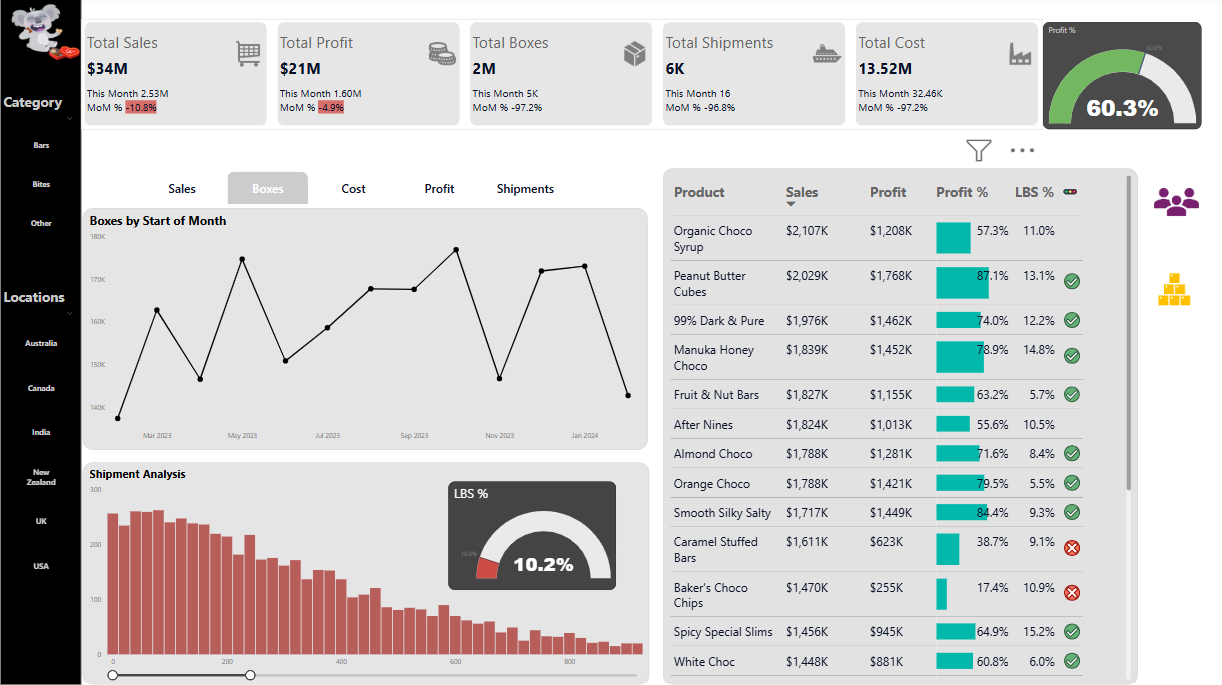

What the dashboard file says about the page in this screenshot:
{"tool":"powerbi","page":{"name":"Sales Report","canvas":[1920,1082],"ordinal":0},"visuals":[{"type":"shape","box":[0,2.7,127.2,1076.1],"z":0},{"type":"cardVisual","fields":{"Data":["_Measures.Total Sales","_Measures.Total Profit","_Measures.Total Boxes","_Measures.Total Shipments","_Measures.Total Cost"]},"box":[127.5,37.2,1500.3,172.6],"z":1000},{"type":"gauge","fields":{"Y":["_Measures.Profit %"]},"box":[1627.7,42.5,246.9,167.3],"z":2000},{"type":"lineChart","fields":{"Y":["_Measures.Total Boxes"],"Category":["calendar.Start of Month"]},"box":[130.1,331.9,881.6,377.1],"z":3000},{"type":"advancedSlicerVisual","fields":{"Values":["Measure Selector.Measure Selector"]},"box":[215.1,270.8,674.5,61.1],"z":4000},{"type":"columnChart","title":"Shipment Analysis","fields":{"Category":["shipments.Boxes (bins)"],"Y":["_Measures.TotalShipments"]},"box":[130.1,730.2,884.2,347.8],"z":5000},{"type":"gauge","fields":{"Y":["_Measures.LBS %"]},"box":[698.8,760.4,261.7,169.3],"z":6000},{"type":"tableEx","title":"Sales People Details","fields":{"Values":["people.Sales person","_Measures.Total Sales","_Measures.Total Profit","_Measures.Profit %","_Measures.LBS %","_Measures.Profit Target Indicator"]},"box":[1043.5,270.8,732.9,807.2],"z":7000},{"type":"image","title":"People Icon","box":[1775.8,278.3,119.3,90.1],"z":9000},{"type":"image","title":"Product Icon","box":[1773.1,421.4,121.9,74.2],"z":10000},{"type":"slicer","title":"Category","fields":{"Values":["products.Category"]},"box":[0,150.8,126.2,240.1],"z":11000},{"type":"slicer","title":"Locations","fields":{"Values":["locations.Geo"]},"box":[0,455.6,126.2,474.1],"z":12000},{"type":"image","box":[12.3,0,117,117],"z":13000}]}

Visuals, with their boxes on the page's 1920x1082 design canvas (x1, y1, x2, y2). These are canvas units, not pixel positions in the 1222x685 screenshot, which may show the page scaled, cropped or inside an application window:
shape: 0/3/127/1079
cardVisual - _Measures.Total Sales x _Measures.Total Profit: 128/37/1628/210
gauge - _Measures.Profit %: 1628/42/1875/210
lineChart - _Measures.Total Boxes x calendar.Start of Month: 130/332/1012/709
advancedSlicerVisual - Measure Selector.Measure Selector: 215/271/890/332
"Shipment Analysis" columnChart: 130/730/1014/1078
gauge - _Measures.LBS %: 699/760/960/930
"Sales People Details" tableEx: 1044/271/1776/1078
"People Icon" image: 1776/278/1895/368
"Product Icon" image: 1773/421/1895/496
"Category" slicer: 0/151/126/391
"Locations" slicer: 0/456/126/930
image: 12/0/129/117
